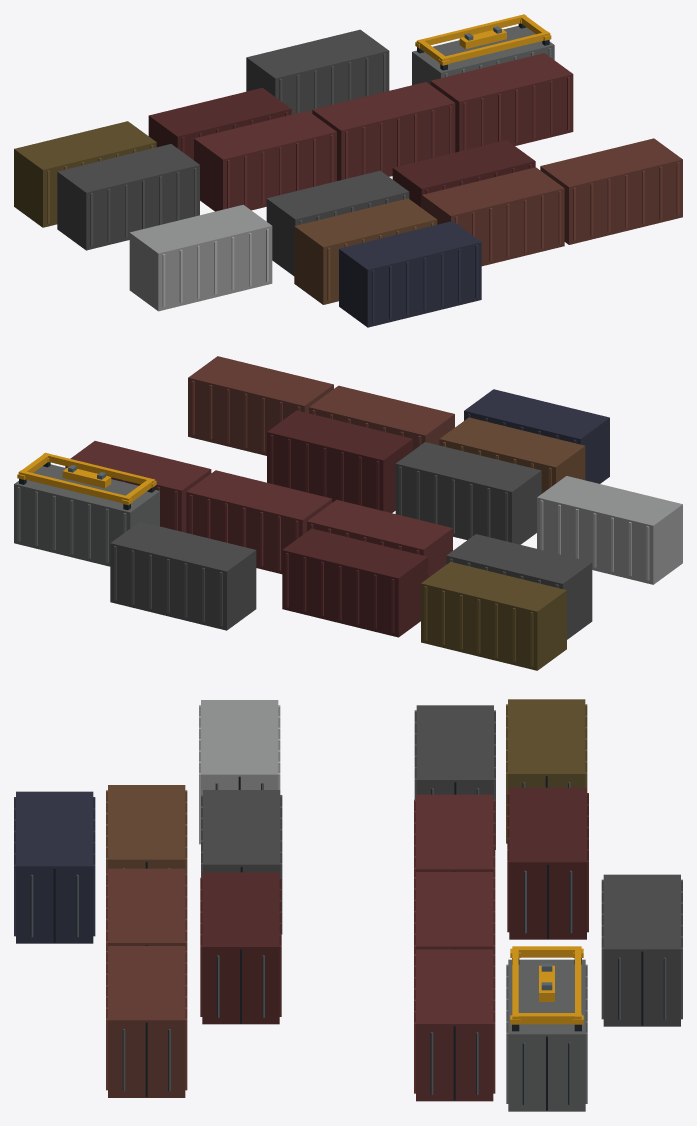
File: SeaportSystem-01-Container-01-20Footer-4-06.glb
3 views of the same model, one above another, from view 1: azimuth 30°, elevation 25°; view 2: azimuth 150°, elevation 25°; view 3: azimuth 270°, elevation 25° (orthographic). The views are drawn at different scales.
Parts seen in each view (by area): view 1: SeaportSystem-01-Container-01-20Footer-4-06; view 2: SeaportSystem-01-Container-01-20Footer-4-06; view 3: SeaportSystem-01-Container-01-20Footer-4-06.
Boxes of the visible parts, bbox=[...] form: SeaportSystem-01-Container-01-20Footer-4-06: bbox=[14, 14, 682, 327]; SeaportSystem-01-Container-01-20Footer-4-06: bbox=[14, 356, 682, 670]; SeaportSystem-01-Container-01-20Footer-4-06: bbox=[14, 699, 682, 1111].
Bounding box in the file's own units: 59.5 × 8.25 × 50.09.
